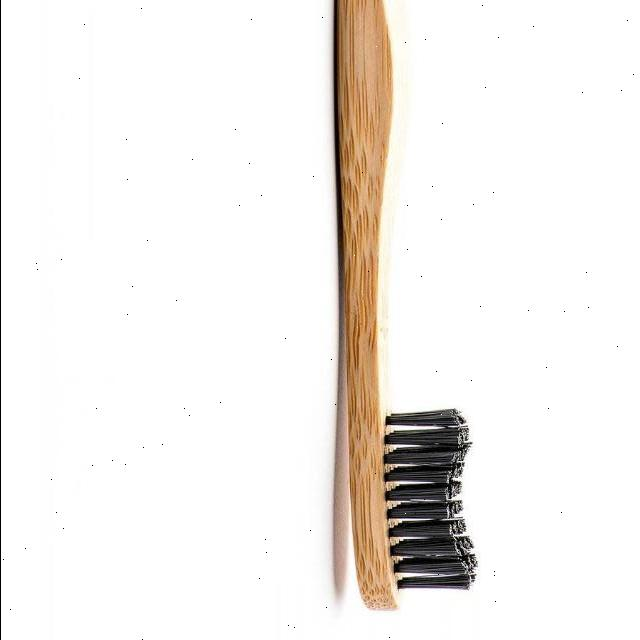toothbrush: (306, 380, 534, 620)
